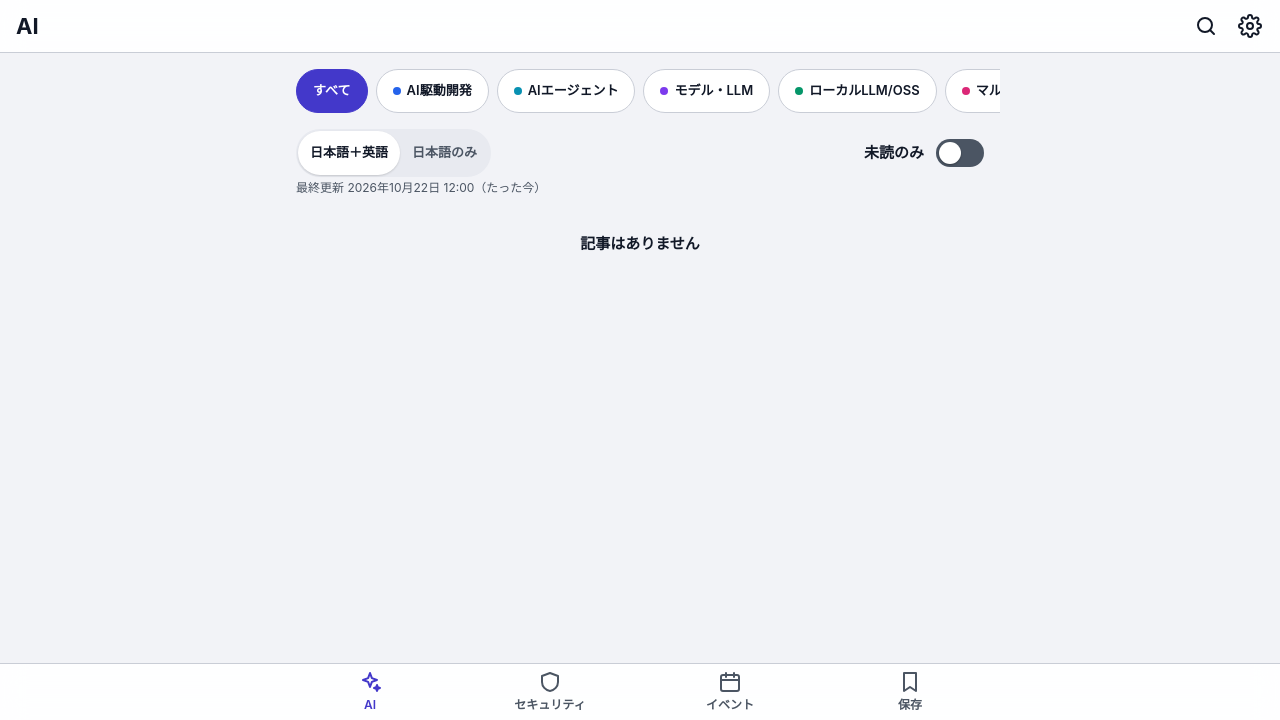
it: App › 記事・イベントが0件なら空の状態を表示する
Check: the text "記事はありません" is shown, box [580, 233, 700, 256]
Click the tab "イベント" at (730, 692), box [640, 664, 820, 719]
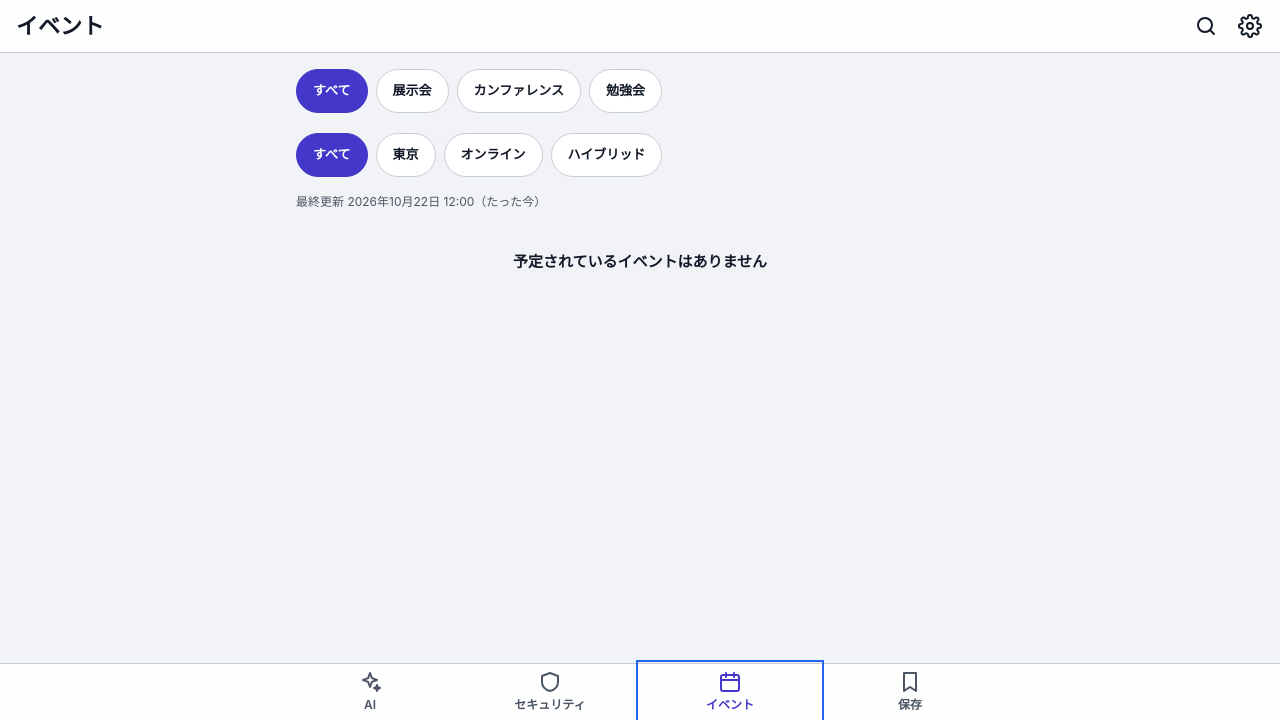
Check: the text "予定されているイベントはありません" is shown, box [513, 251, 767, 274]
